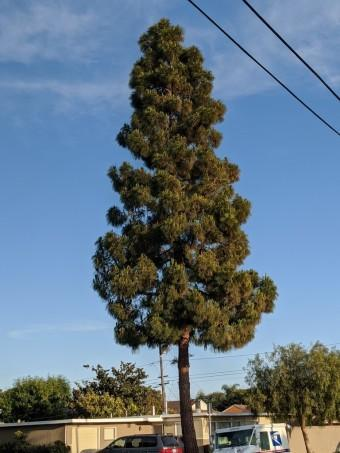tree: (88, 19, 290, 453)
